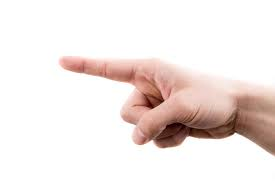hand: (55, 38, 249, 160)
